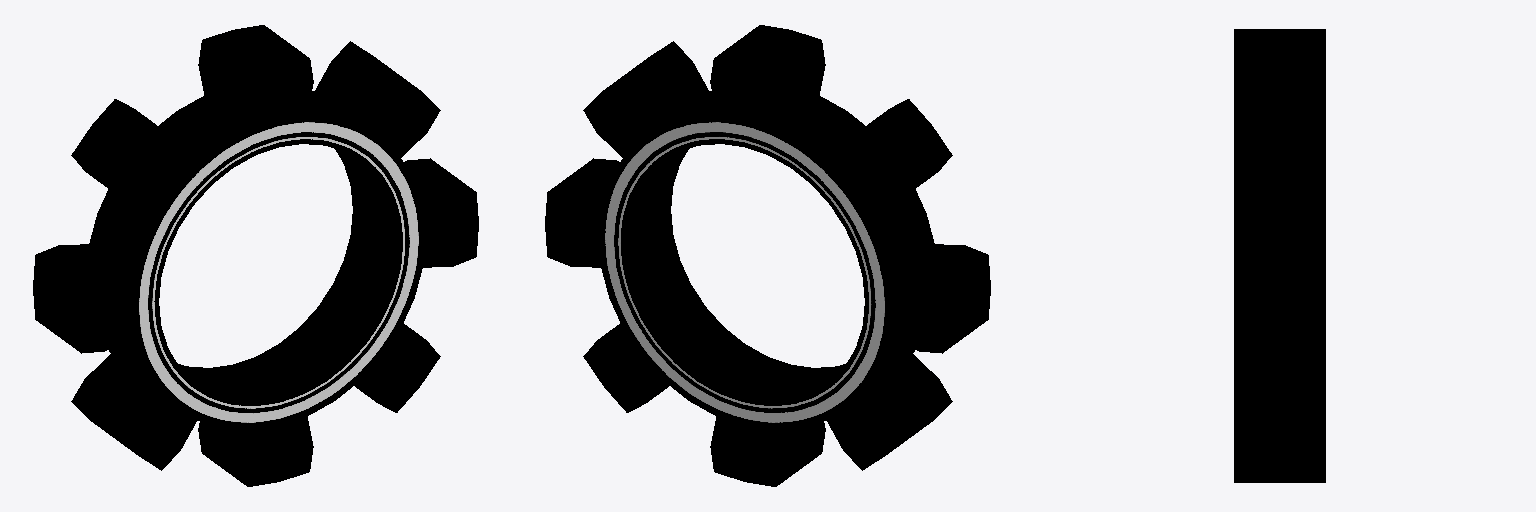
3 views of the same model, side by side, from view 1: azimuth 30°, elevation 25°; view 2: azimuth 150°, elevation 25°; view 3: azimuth 270°, elevation 25° (orthographic).
Visible parts, largest first — view 1: Gear_M; view 2: Gear_M; view 3: Gear_M.
Part boxes in pixels (left/top/right/bottom): Gear_M: left=33, top=25, right=478, bottom=486; Gear_M: left=545, top=25, right=990, bottom=486; Gear_M: left=1234, top=29, right=1325, bottom=482.
Bounding box in the file's own units: 4.5 × 4.5 × 0.9.
1 materials, 1 textured.